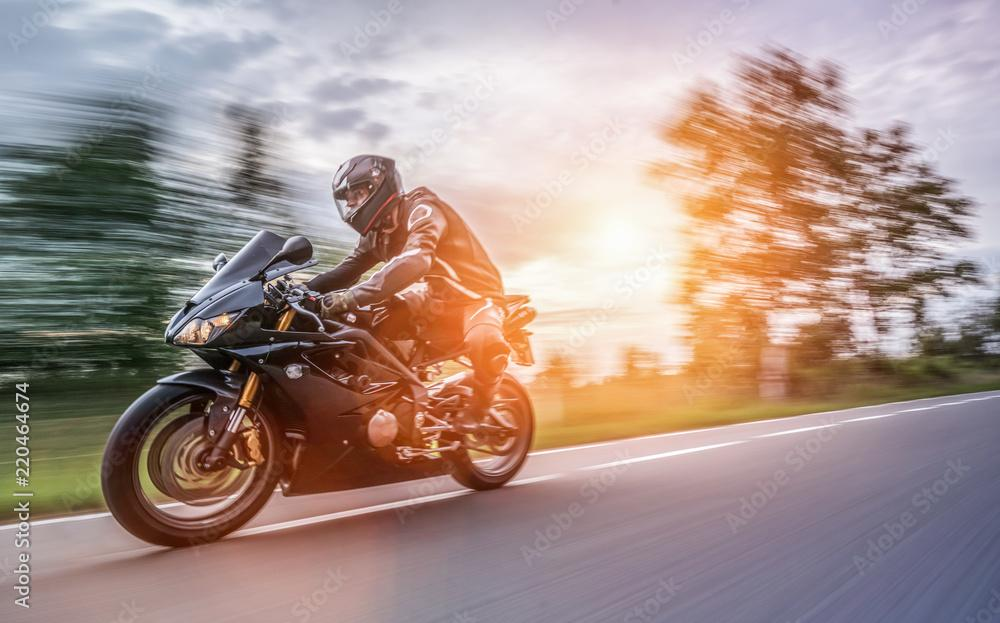helmet: (331, 154, 406, 238)
